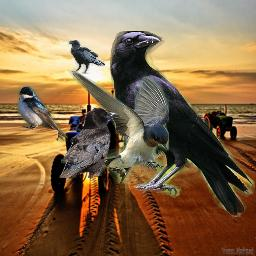Crow: (110, 31, 255, 217), (59, 107, 121, 178), (68, 40, 105, 74)
Swallow: (61, 69, 169, 184), (17, 86, 68, 144)
